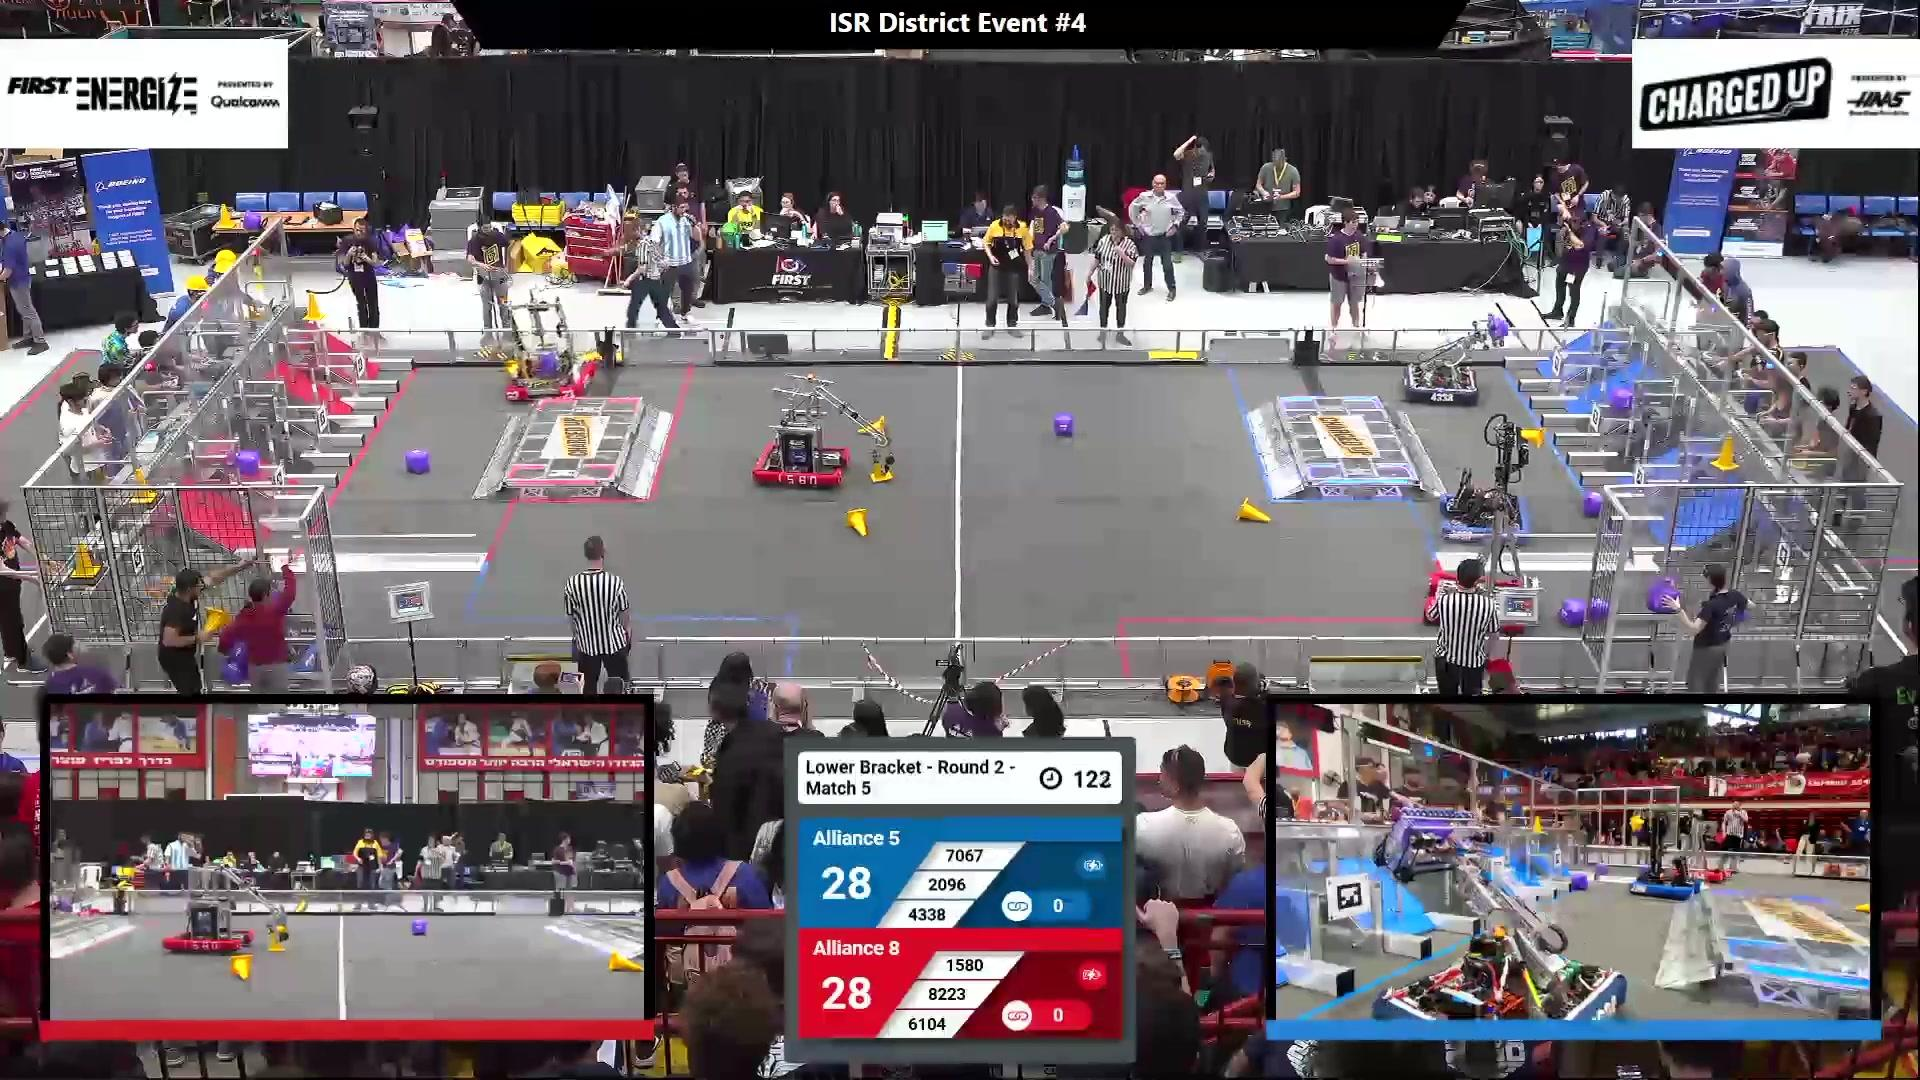robot: (1371, 803, 1627, 1021), (753, 375, 891, 489), (222, 545, 338, 678), (1435, 410, 1539, 539), (162, 856, 287, 953), (1424, 513, 1526, 632), (502, 294, 596, 406), (1402, 314, 1510, 406), (1630, 808, 1702, 899), (1668, 816, 1730, 884), (53, 860, 100, 920)
